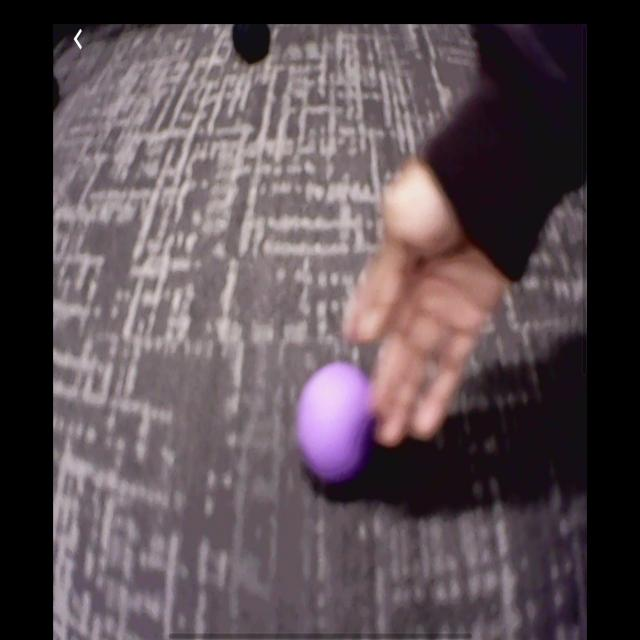ball: (295, 361, 377, 487)
